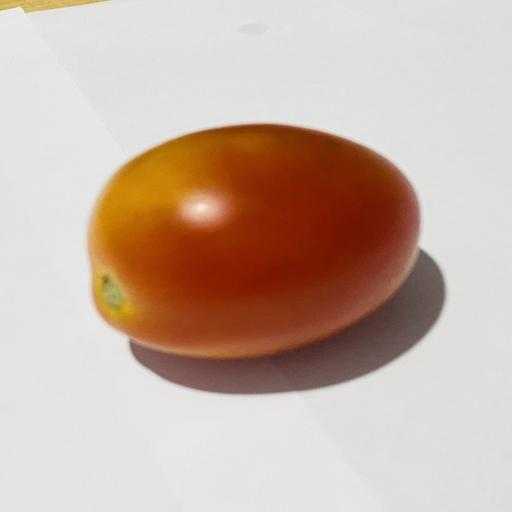ripe: (89, 124, 420, 358)
